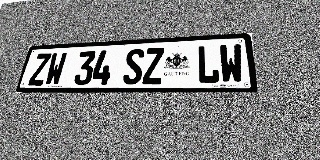3: (73, 51, 96, 85)
4: (91, 50, 114, 85)
L: (197, 45, 220, 84)
S: (122, 48, 145, 85)
W: (219, 44, 244, 84), (44, 52, 67, 86)
Z: (28, 53, 52, 86), (142, 48, 164, 84)
